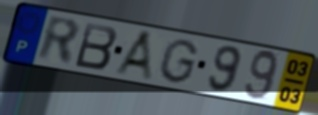9: (241, 48, 280, 103), (207, 45, 244, 95)
A: (112, 29, 155, 84)
B: (72, 20, 120, 71)
G: (156, 37, 201, 86)
R: (35, 13, 82, 68)
